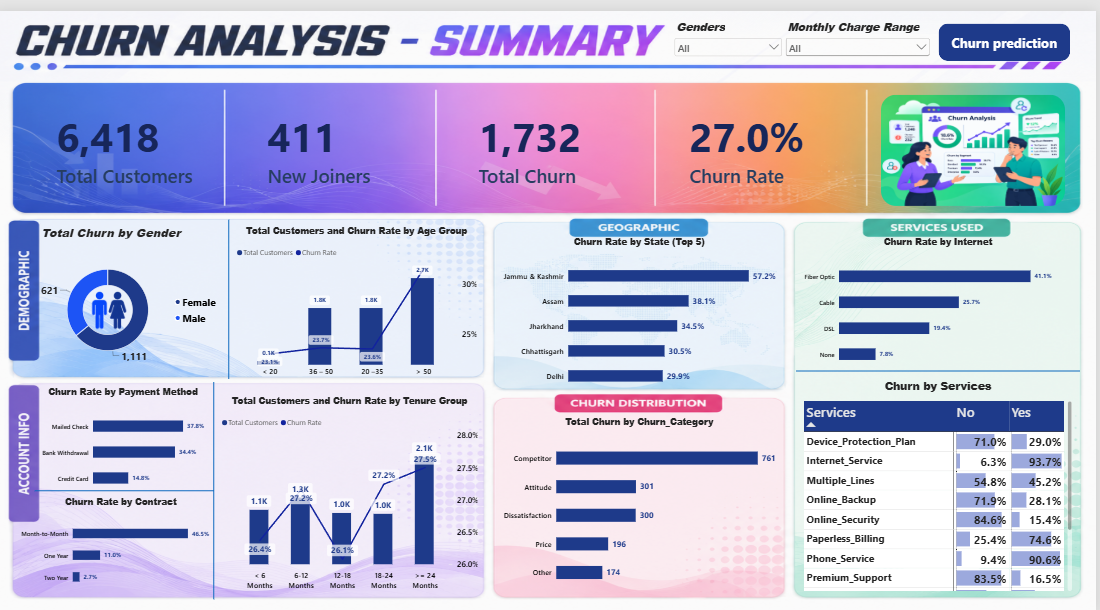

The dashboard page shown, as its layout file describes it:
{"tool":"powerbi","page":{"name":"Summury","canvas":[2200,1200],"ordinal":0},"visuals":[{"type":"image","box":[180,554,92,90],"z":0},{"type":"cardVisual","fields":{"Data":["tbl_Measures.Total Customers","tbl_Measures.New Joiners","tbl_Measures.Total Churn","tbl_Measures.Churn Rate"]},"box":[104,160,1680,230],"z":1000},{"type":"slicer","fields":{"Values":["Prod_Services.Gender"]},"box":[1352,18,224.4,86.9],"z":2000},{"type":"slicer","fields":{"Values":["db_churn prod_churn. Monthly_Charge_Status"]},"box":[1576,18,296.8,86.9],"z":3000},{"type":"image","box":[1770,168,368,222],"z":4000},{"type":"donutChart","title":"Total Churn by Gender","fields":{"Y":["tbl_Measures.Total Churn"],"Category":["db_churn prod_churn.Gender"]},"box":[76,412,390,324],"z":5000},{"type":"clusteredBarChart","title":"Churn Rate by Payment Method","fields":{"Y":["tbl_Measures.Churn Rate"],"Category":["db_churn prod_churn.Payment_Method"]},"box":[76,736,358,250],"z":6000},{"type":"clusteredBarChart","title":"Churn Rate by Contract","fields":{"Y":["tbl_Measures.Churn Rate"],"Category":["db_churn prod_churn.Contract"]},"box":[32,954,434,222],"z":7000},{"type":"lineStackedColumnComboChart","title":"Total Customers and Churn Rate by Age Group","fields":{"Category":["Mapping_AgeGrp.Age Group"],"Y2":["tbl_Measures.Churn Rate"],"Y":["tbl_Measures.Total Customers"]},"box":[466,412,512,340],"z":8000},{"type":"lineStackedColumnComboChart","title":"Total Customers and Churn Rate by Tenure Group","fields":{"Category":["Mapping_TenureGrp.Tenure Group"],"Y":["tbl_Measures.Total Customers"],"Y2":["tbl_Measures.Churn Rate"]},"box":[434,752,544,424],"z":9000},{"type":"clusteredBarChart","title":"Churn Rate by State (Top 5)","fields":{"Y":["tbl_Measures.Churn Rate"],"Category":["db_churn prod_churn.State"]},"box":[998,434,578,344],"z":10000},{"type":"clusteredBarChart","title":"Total Churn by Churn_Category","fields":{"Category":["db_churn prod_churn.Churn_Category"],"Y":["tbl_Measures.Total Churn"]},"box":[998,794,578,382],"z":11000},{"type":"clusteredBarChart","title":"Churn Rate by Internet","fields":{"Category":["db_churn prod_churn.Internet_Type"],"Y":["tbl_Measures.Churn Rate"]},"box":[1600,434,568,302],"z":12000},{"type":"pivotTable","title":"Churn by Services","fields":{"Rows":["Prod_Services.Services"],"Columns":["Prod_Services.Status"],"Values":["Sum(Prod_Services.Churn_Status)"]},"box":[1600,720,568,456],"z":13000},{"type":"shape","box":[1600,644,568,150],"z":14000},{"type":"shape","box":[78,928,358,64],"z":15000},{"type":"shape","box":[382,742,106,434],"z":16000},{"type":"shape","box":[412,418,106,318],"z":17000},{"type":"shape","box":[1884,24,263.3,75],"z":17001}]}

Visuals, with their boxes in screenshot pixels (x1, y1, x2, y2), scaled from the page's 2200x1200 canvas onto the 1100x610 screenshot:
image: BBox(90, 282, 136, 327)
cardVisual - tbl_Measures.Total Customers x tbl_Measures.New Joiners: BBox(52, 81, 892, 198)
slicer - Prod_Services.Gender: BBox(676, 9, 788, 53)
slicer - db_churn prod_churn. Monthly_Charge_Status: BBox(788, 9, 936, 53)
image: BBox(885, 85, 1069, 198)
"Total Churn by Gender" donutChart: BBox(38, 209, 233, 374)
"Churn Rate by Payment Method" clusteredBarChart: BBox(38, 374, 217, 501)
"Churn Rate by Contract" clusteredBarChart: BBox(16, 485, 233, 598)
"Total Customers and Churn Rate by Age Group" lineStackedColumnComboChart: BBox(233, 209, 489, 382)
"Total Customers and Churn Rate by Tenure Group" lineStackedColumnComboChart: BBox(217, 382, 489, 598)
"Churn Rate by State (Top 5)" clusteredBarChart: BBox(499, 221, 788, 395)
"Total Churn by Churn_Category" clusteredBarChart: BBox(499, 404, 788, 598)
"Churn Rate by Internet" clusteredBarChart: BBox(800, 221, 1084, 374)
"Churn by Services" pivotTable: BBox(800, 366, 1084, 598)
shape: BBox(800, 327, 1084, 404)
shape: BBox(39, 472, 218, 504)
shape: BBox(191, 377, 244, 598)
shape: BBox(206, 212, 259, 374)
shape: BBox(942, 12, 1074, 50)
